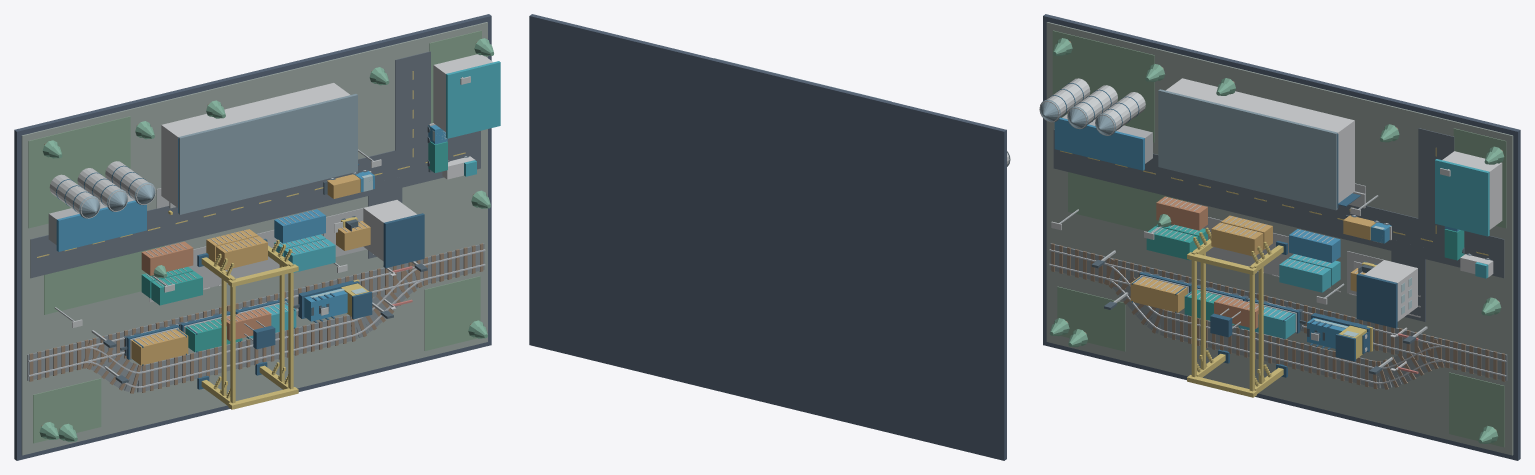
The model's file is maquete_sistema_ferroviario.glb.
3 renders of one model, left to right at view 1: azimuth 30°, elevation 25°; view 2: azimuth 150°, elevation 25°; view 3: azimuth 330°, elevation 25°, orthographic.
Parts seen in each view (by area): view 1: terrain, facilities, roads, rails, terminal, base, crane, train, vehicles, nature, signals; view 2: base; view 3: terrain, facilities, roads, rails, base, terminal, crane, train, nature, vehicles, signals.
Boxes of the visible parts, x1,y1,x2,y2 form: terrain: [21, 22, 487, 455]; facilities: [48, 54, 500, 268]; roads: [30, 51, 480, 278]; rails: [27, 243, 485, 393]; terminal: [141, 188, 370, 305]; base: [14, 14, 491, 460]; crane: [197, 238, 298, 409]; train: [120, 279, 372, 365]; vehicles: [323, 123, 476, 232]; nature: [39, 38, 493, 441]; signals: [54, 76, 470, 383]; base: [529, 14, 1006, 460]; terrain: [1046, 22, 1513, 455]; facilities: [1039, 78, 1502, 328]; roads: [1053, 128, 1504, 321]; rails: [1049, 243, 1507, 389]; base: [1043, 14, 1520, 460]; terminal: [1146, 183, 1383, 295]; crane: [1187, 227, 1287, 397]; train: [1130, 271, 1372, 361]; nature: [1049, 38, 1504, 443]; vehicles: [1343, 215, 1493, 278]; signals: [1051, 168, 1450, 374].
Size of the model in its own units: 154 by 102 by 23.45.
